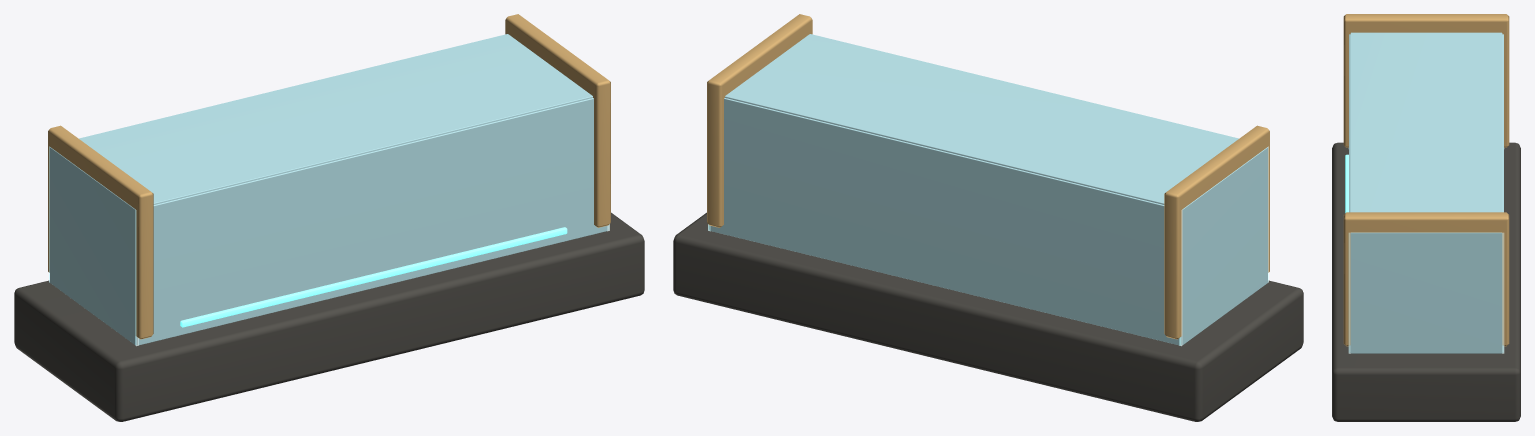
File: hp_furniture_museum_horizontal_tool_case_v1.glb
The picture shows the model from 3 angles, left to right: view 1: azimuth 30°, elevation 25°; view 2: azimuth 150°, elevation 25°; view 3: azimuth 270°, elevation 25°; orthographic projection. The views are drawn at different scales.
Visible parts, largest first — view 1: glass_front_panel.001, long_museum_plinth, glass_top_panel.001, glass_left_panel.001, brass_end_clamp, brass_end_clamp.001, internal_case_light_strip; view 2: glass_back_panel.001, long_museum_plinth, glass_top_panel.001, glass_left_panel.001, brass_end_clamp, brass_end_clamp.001; view 3: glass_top_panel.001, glass_right_panel.001, long_museum_plinth, brass_end_clamp.001, brass_end_clamp, glass_front_panel.001, glass_back_panel.001, glass_vertical_edge_glint.006, glass_vertical_edge_glint.007, internal_case_light_strip.
Part boxes in pixels (x1,y1,x2,y2): glass_front_panel.001: [136, 98, 608, 345]; long_museum_plinth: [14, 212, 644, 421]; glass_top_panel.001: [79, 34, 592, 204]; glass_left_panel.001: [50, 147, 136, 345]; brass_end_clamp: [48, 125, 153, 339]; brass_end_clamp.001: [505, 14, 610, 227]; internal_case_light_strip: [180, 227, 567, 327]; glass_back_panel.001: [709, 98, 1181, 345]; long_museum_plinth: [673, 212, 1303, 421]; glass_top_panel.001: [725, 34, 1238, 204]; glass_left_panel.001: [1181, 147, 1267, 345]; brass_end_clamp: [1164, 125, 1269, 339]; brass_end_clamp.001: [707, 14, 812, 227]; glass_top_panel.001: [1350, 32, 1502, 212]; glass_right_panel.001: [1350, 232, 1502, 353]; long_museum_plinth: [1332, 142, 1520, 421]; brass_end_clamp.001: [1343, 212, 1509, 346]; brass_end_clamp: [1343, 14, 1509, 147]; glass_front_panel.001: [1349, 34, 1350, 352]; glass_back_panel.001: [1502, 34, 1503, 352]; glass_vertical_edge_glint.006: [1348, 233, 1350, 353]; glass_vertical_edge_glint.007: [1502, 233, 1504, 353]; internal_case_light_strip: [1345, 154, 1348, 212].
Bounding box in the file's own units: 2.36 × 0.93 × 0.82.
